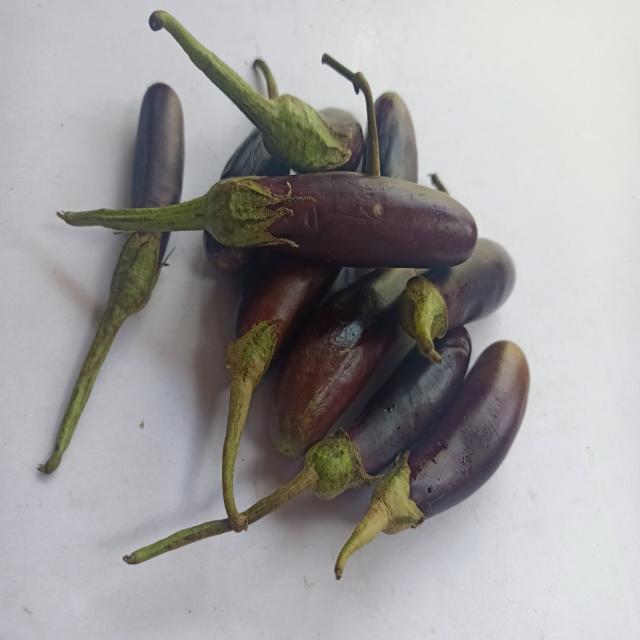Brinjal: (335, 341, 530, 580), (58, 171, 477, 267), (399, 238, 516, 362)
